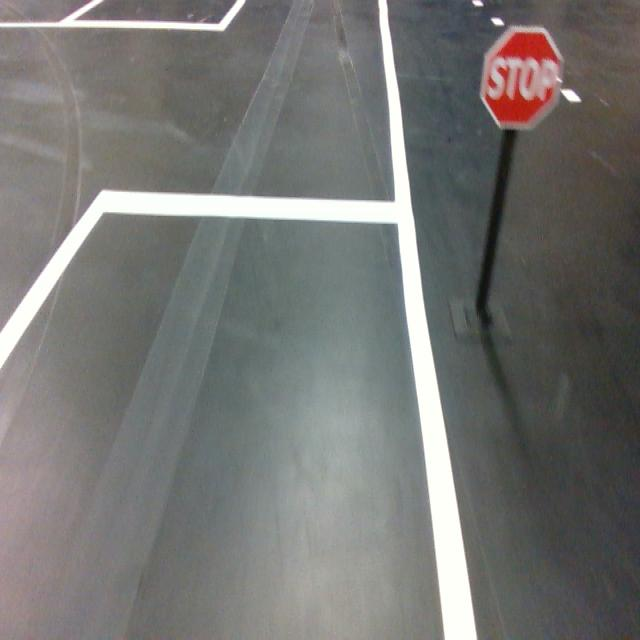stop-sign: (479, 24, 565, 132)
